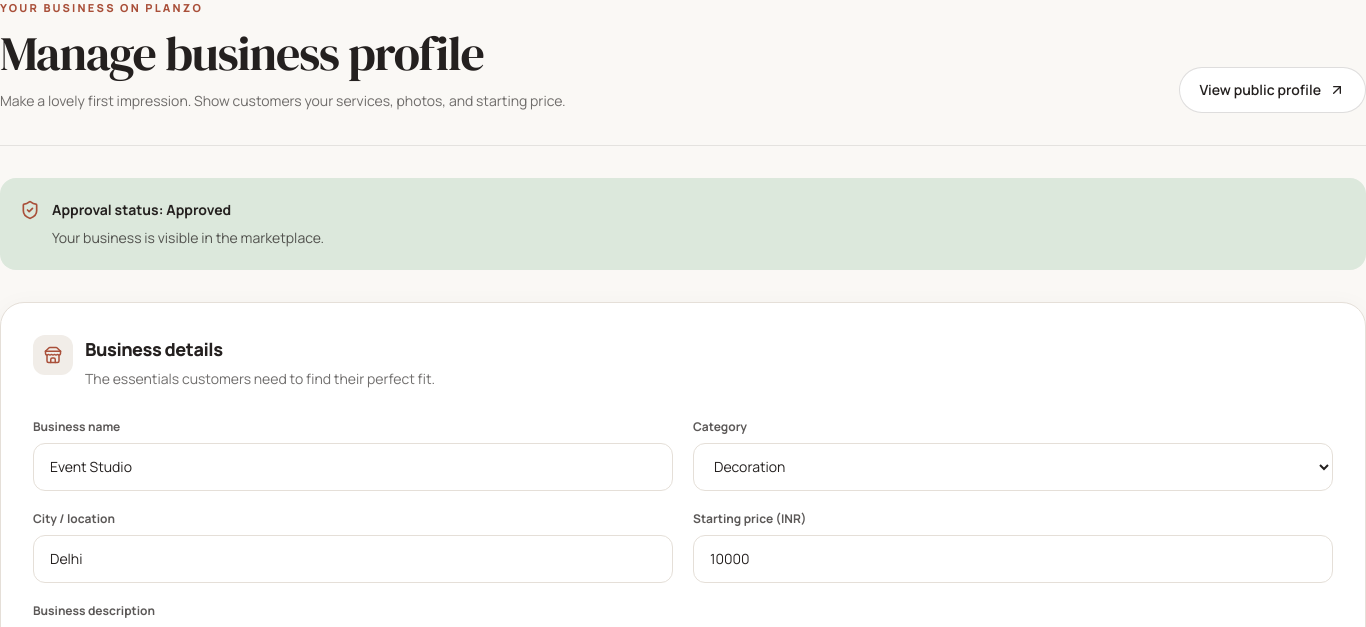
Test: business profile editor › keeps failed-save feedback beside the save action and preserves entered details
This screenshot has width=1366, height=627.
Replace the text in the field labelled "Business name" with "Event Studio Updated" at coordinates (353, 466), box 33,442 -> 673,490
(page scrolled)
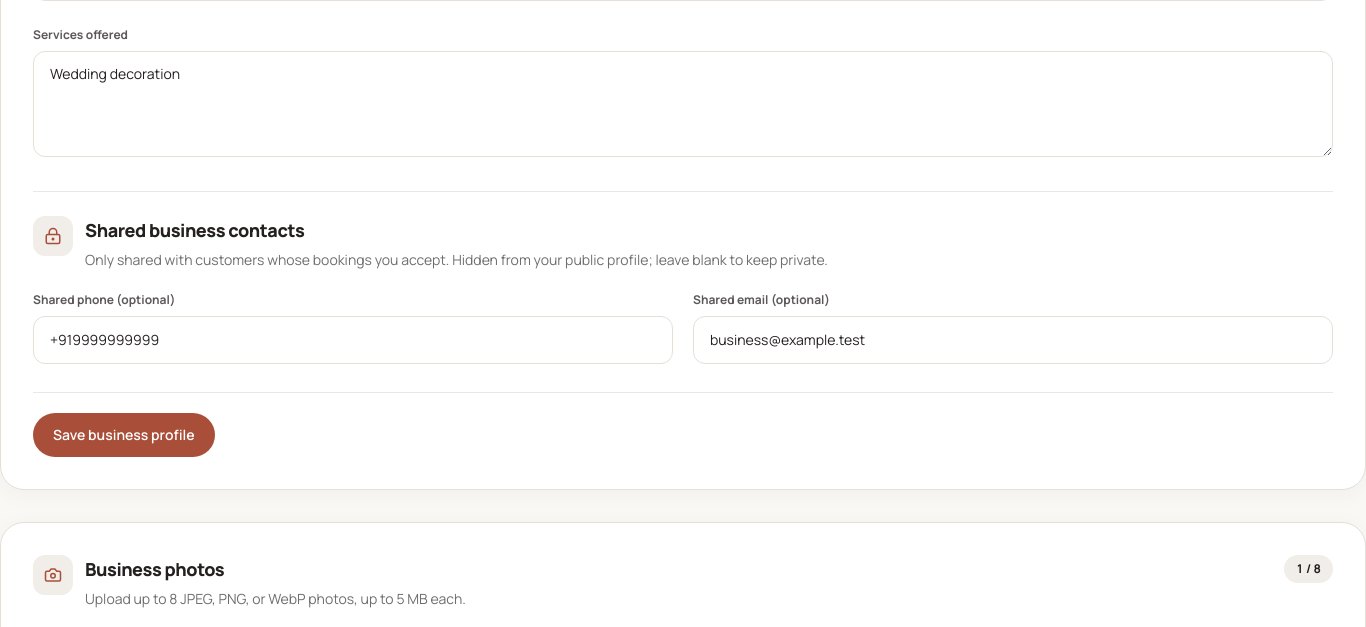
Click the button "Save business profile" at coordinates (124, 434), box 33,412 -> 215,456
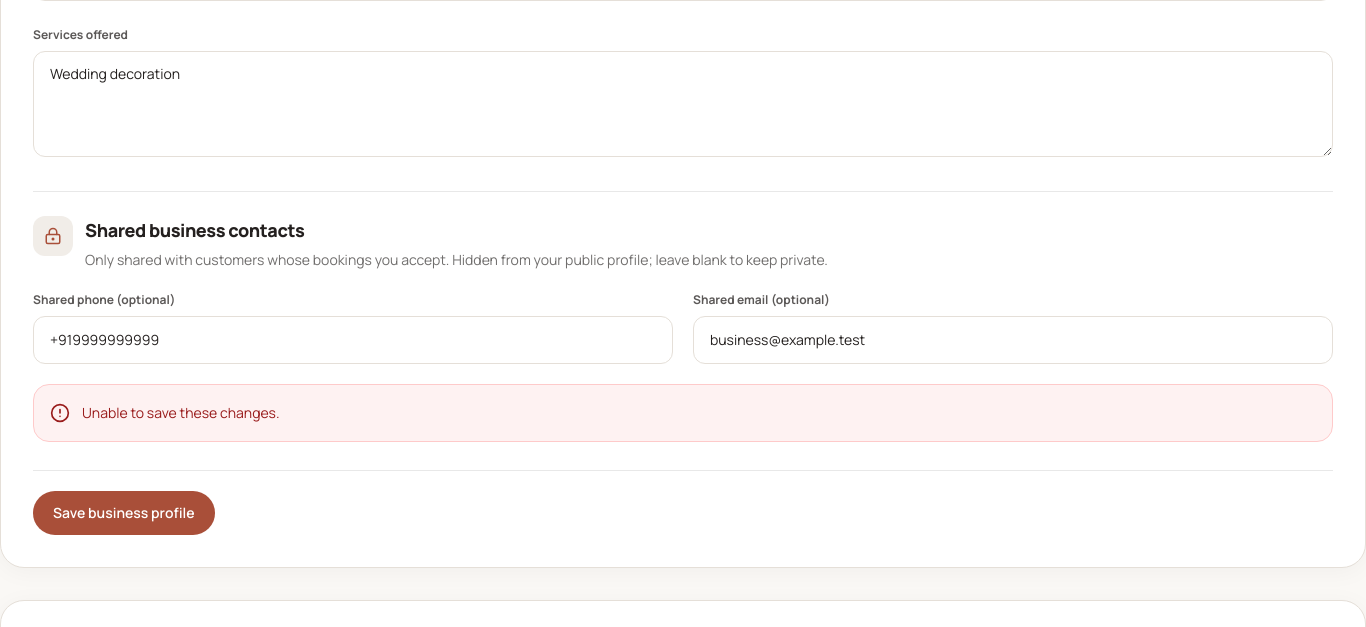
Expected: the button "Save business profile" is enabled, 33,490 -> 215,534
Expected: the message reads "Unable to save these changes.", 82,402 -> 280,422
